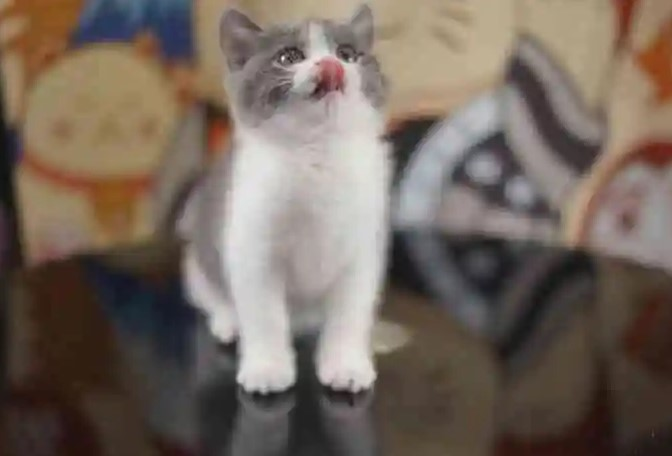cat: (173, 3, 391, 398)
